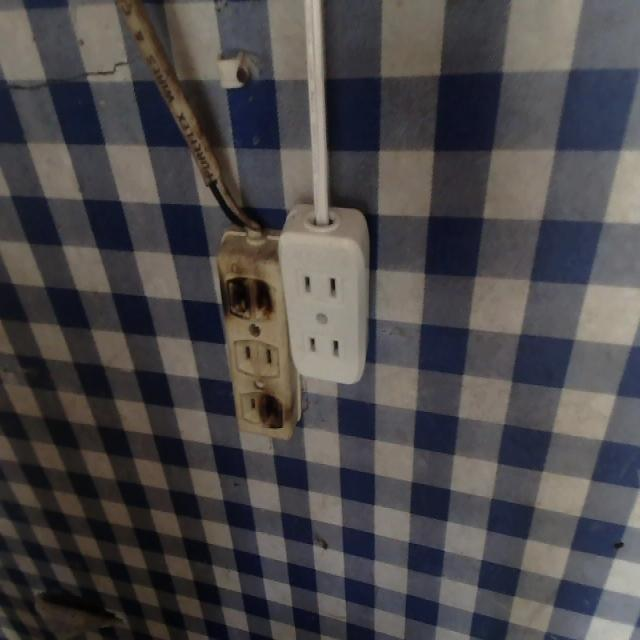-: (223, 272, 280, 323), (258, 392, 287, 435)
